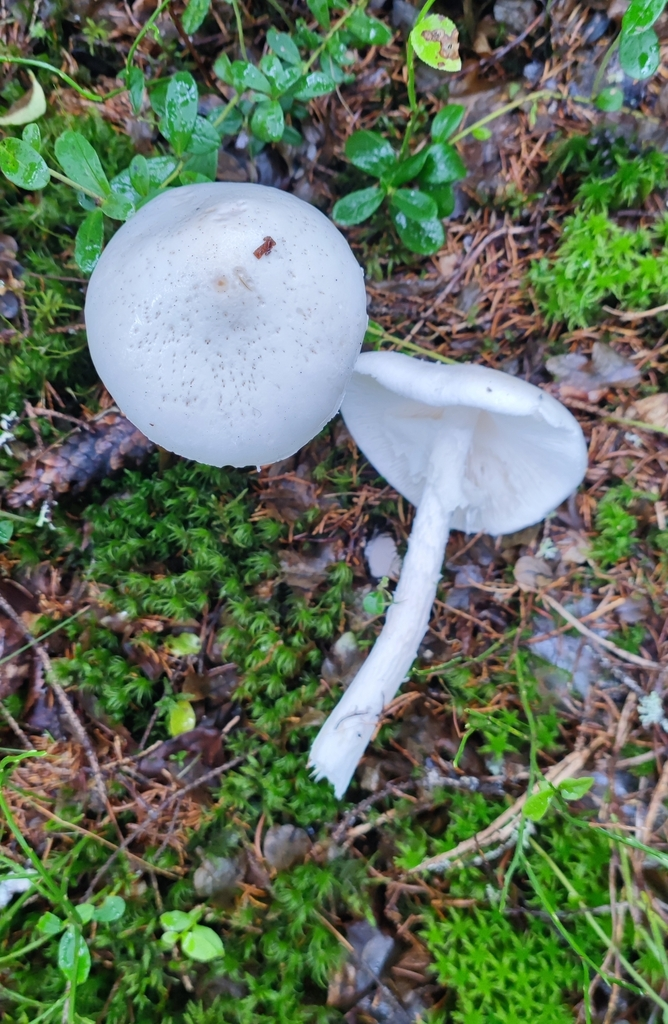Cap: (86, 183, 366, 466), (357, 352, 583, 442)
Stem: (310, 429, 467, 796)
Underside: (341, 372, 586, 534)
